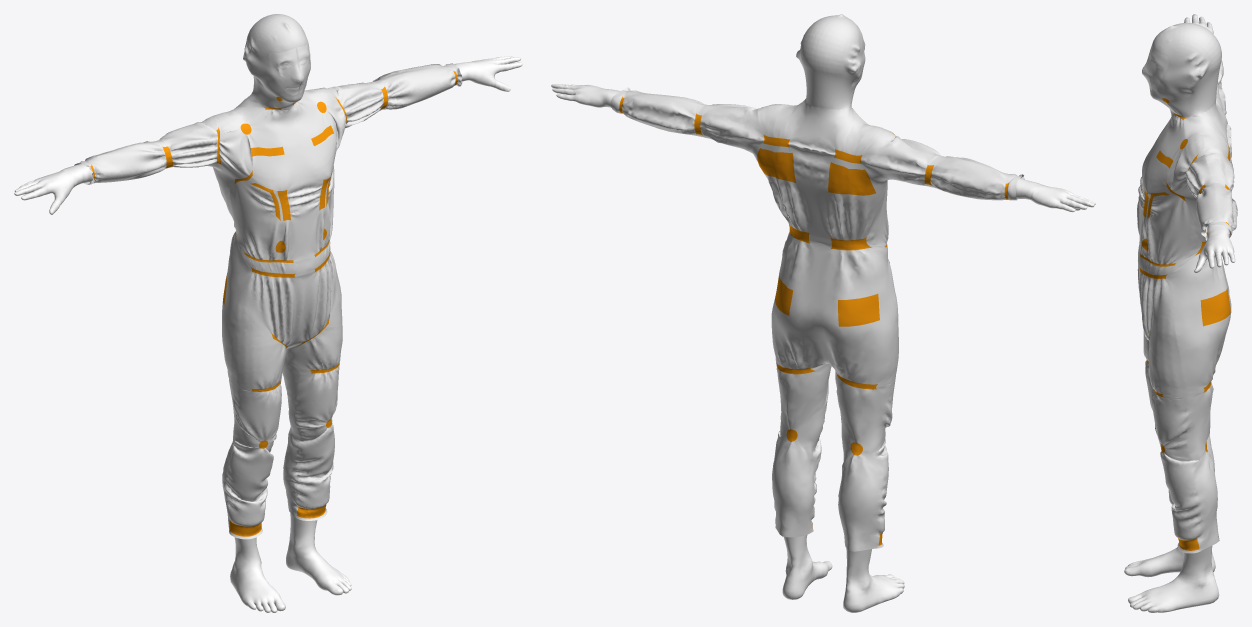
The model's file is Hazmat_fbx.fbx.
The picture shows the model from 3 angles, left to right: view 1: azimuth 30°, elevation 25°; view 2: azimuth 150°, elevation 25°; view 3: azimuth 270°, elevation 25°; orthographic projection. The views are drawn at different scales.
Parts seen in each view (by area): view 1: Hazmat_fbx, BodyShape; view 2: Hazmat_fbx, BodyShape; view 3: Hazmat_fbx, BodyShape.
Part boxes in pixels (<box>): Hazmat_fbx: <box>74,14,462,539</box>; BodyShape: <box>14,45,522,612</box>; Hazmat_fbx: <box>610,14,1024,551</box>; BodyShape: <box>551,84,1095,612</box>; Hazmat_fbx: <box>1137,23,1237,553</box>; BodyShape: <box>1124,14,1235,612</box>.
Size of the model in its own units: 1735 by 1809 by 331.
